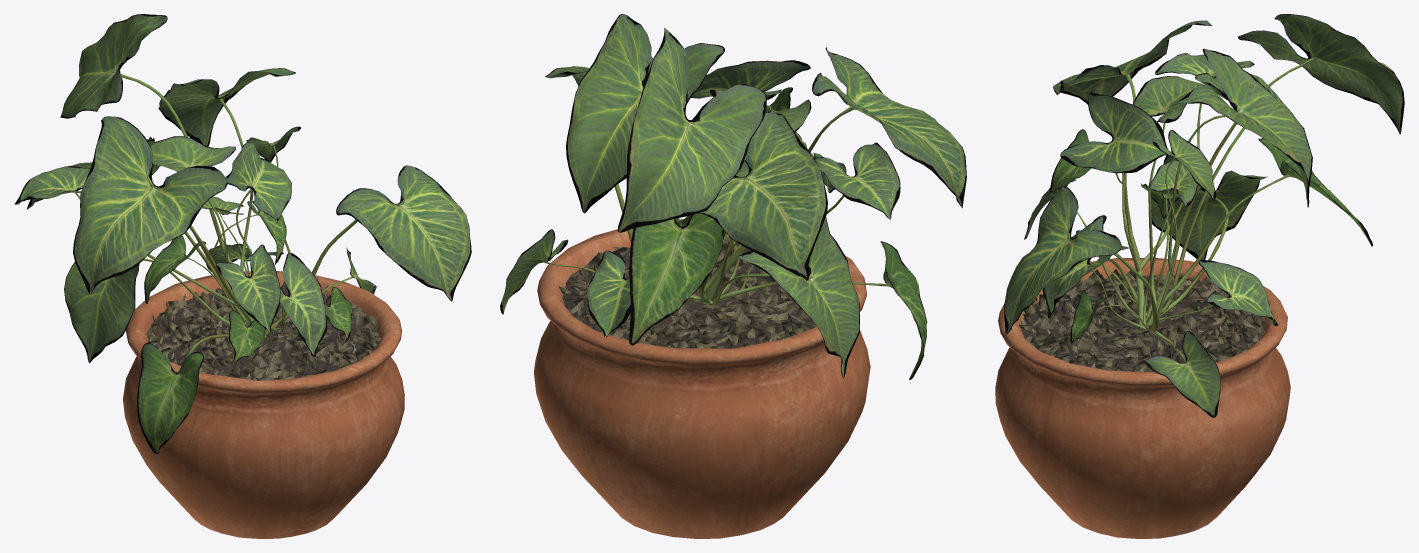
File: SBarPlant_01.glb
3 views of the same model, side by side, from view 1: azimuth 30°, elevation 25°; view 2: azimuth 150°, elevation 25°; view 3: azimuth 270°, elevation 25° (orthographic). The views are drawn at different scales.
Visible parts, largest first — view 1: potted_plant_02_leaves, potted_plant_02_pot, potted_plant_02_dirt; view 2: potted_plant_02_leaves, potted_plant_02_pot, potted_plant_02_dirt; view 3: potted_plant_02_leaves, potted_plant_02_pot, potted_plant_02_dirt.
Part boxes in pixels (x1=…): potted_plant_02_leaves: x1=14, y1=14, x2=471, y2=454; potted_plant_02_pot: x1=123, y1=271, x2=404, y2=538; potted_plant_02_dirt: x1=146, y1=282, x2=380, y2=380; potted_plant_02_leaves: x1=500, y1=14, x2=966, y2=379; potted_plant_02_pot: x1=534, y1=219, x2=870, y2=538; potted_plant_02_dirt: x1=558, y1=236, x2=816, y2=348; potted_plant_02_leaves: x1=1004, y1=14, x2=1404, y2=417; potted_plant_02_pot: x1=995, y1=258, x2=1290, y2=538; potted_plant_02_dirt: x1=1019, y1=269, x2=1265, y2=372.
Size of the model in its own units: 3.12 by 3.74 by 2.92.
2 materials, 2 textured.
